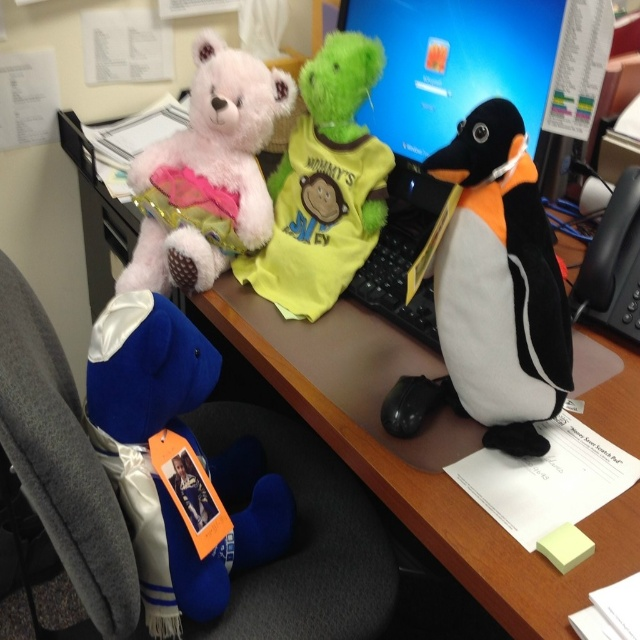Penguin: (419, 100, 577, 460)
